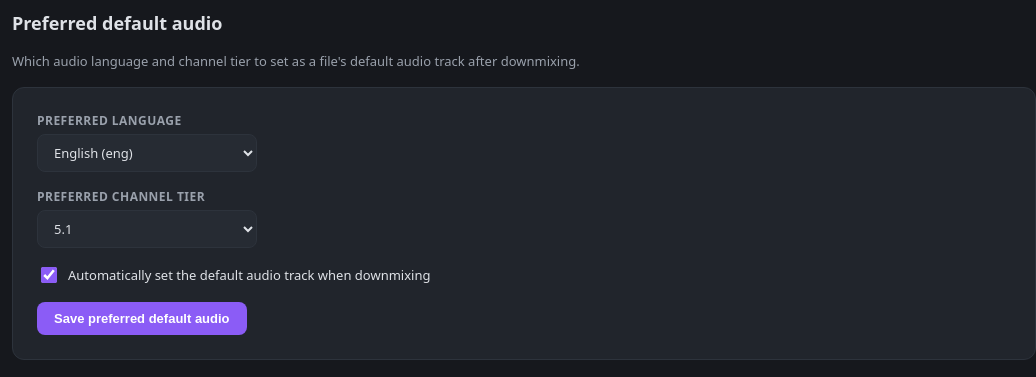
it: DefaultAudioSection › clears the auto-set checkbox when the language is cleared after being checked, and does not send an invalid combination
Expected: the checkbox labelled "Automatically set the default audio track when downmixing" is checked, x1=41 y1=267 x2=57 y2=283
Expected: the checkbox labelled "Automatically set the default audio track when downmixing" is enabled, x1=41 y1=267 x2=57 y2=283
Select "None" in the dropdown labelled "Preferred language" at (147, 153), box x1=37 y1=134 x2=257 y2=172
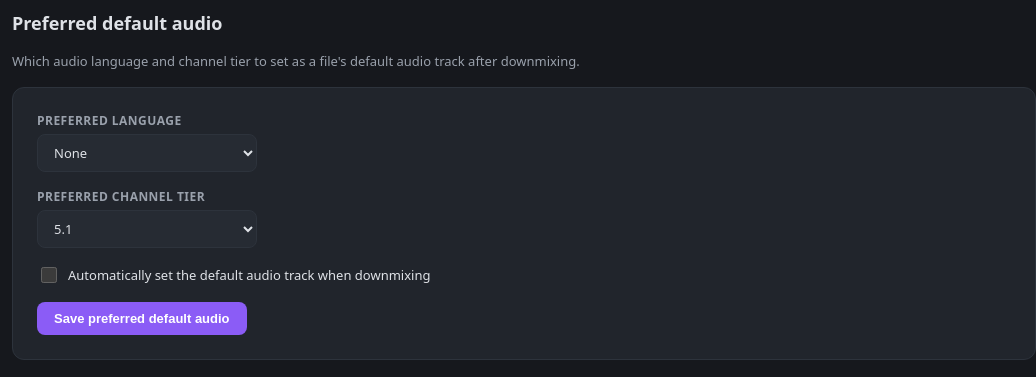
Now the checkbox labelled "Automatically set the default audio track when downmixing" is not checked, box x1=41 y1=267 x2=57 y2=283
Now the checkbox labelled "Automatically set the default audio track when downmixing" is disabled, box x1=41 y1=267 x2=57 y2=283
Click the button "Save preferred default audio" at (142, 319), box x1=37 y1=302 x2=247 y2=335
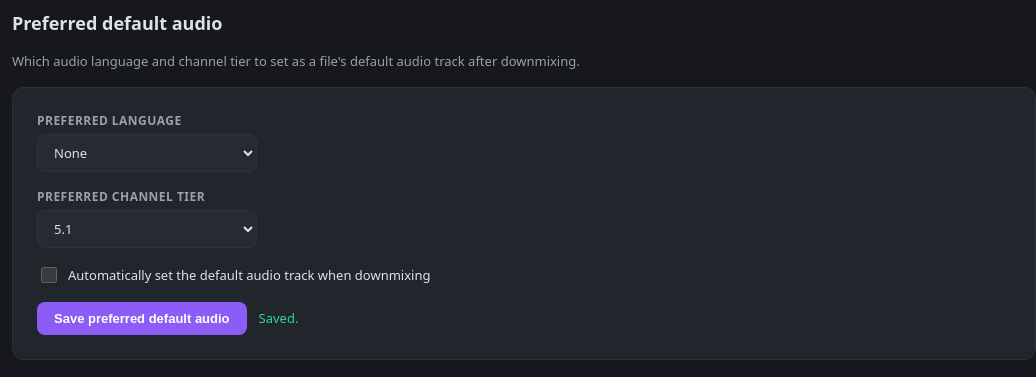
Now the text "Saved." is shown, box x1=259 y1=309 x2=298 y2=329
